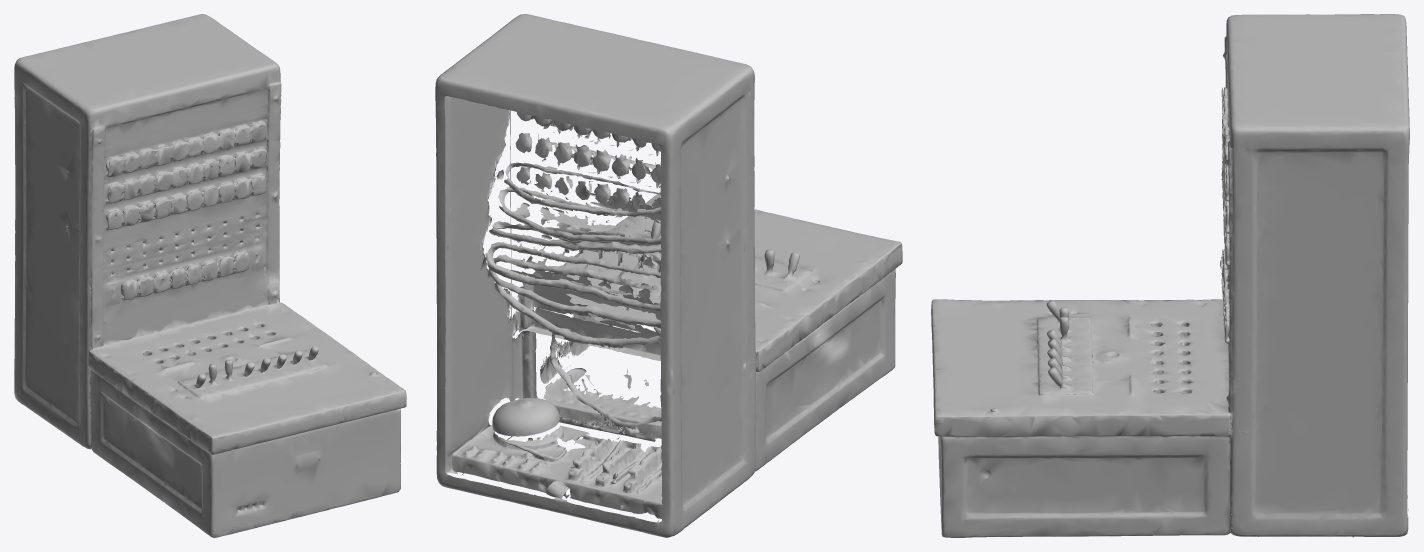
3 renders of one model, left to right at view 1: azimuth 30°, elevation 25°; view 2: azimuth 150°, elevation 25°; view 3: azimuth 270°, elevation 25°, orthographic. The views are drawn at different scales.
Parts seen in each view (by area): view 1: object; view 2: object; view 3: object.
Boxes of the visible parts, <box> form: object: <box>14,14,406,537</box>; object: <box>435,14,902,537</box>; object: <box>931,14,1409,537</box>.
Size of the model in its own units: 61.39 by 101 by 105.
1 material, 1 textured.
